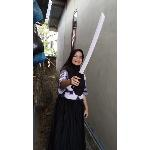Pedang: (69, 9, 107, 90)
